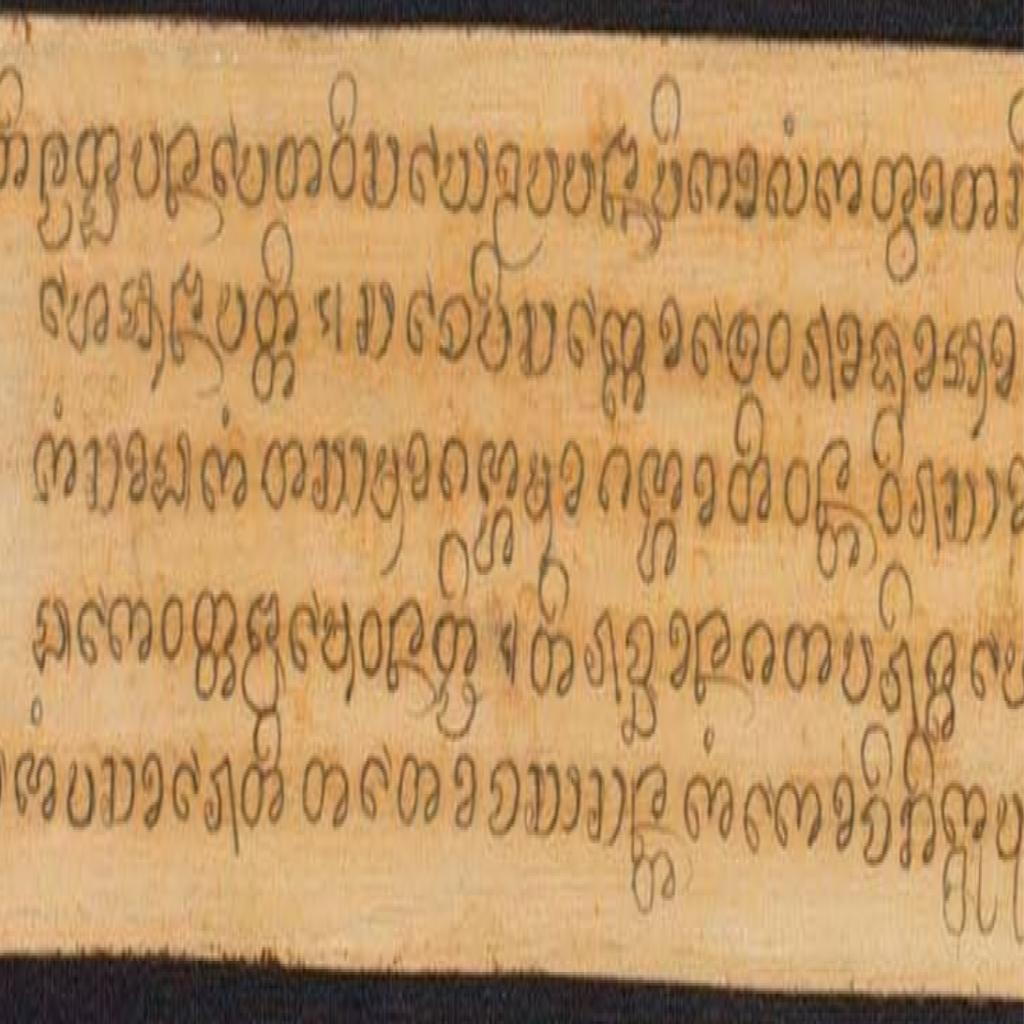LN006: (486, 748, 524, 847)
